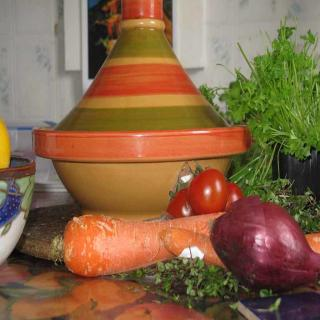tomato: (187, 160, 229, 212), (167, 183, 194, 217), (226, 180, 242, 209)
